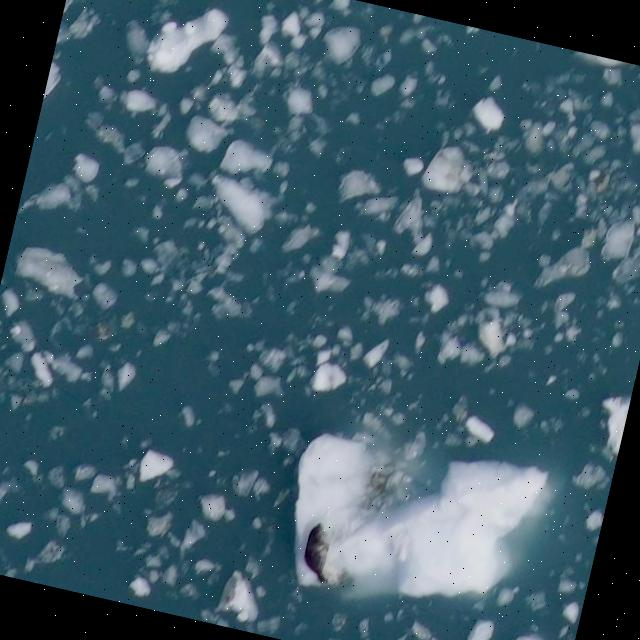seal: (303, 519, 330, 583)
